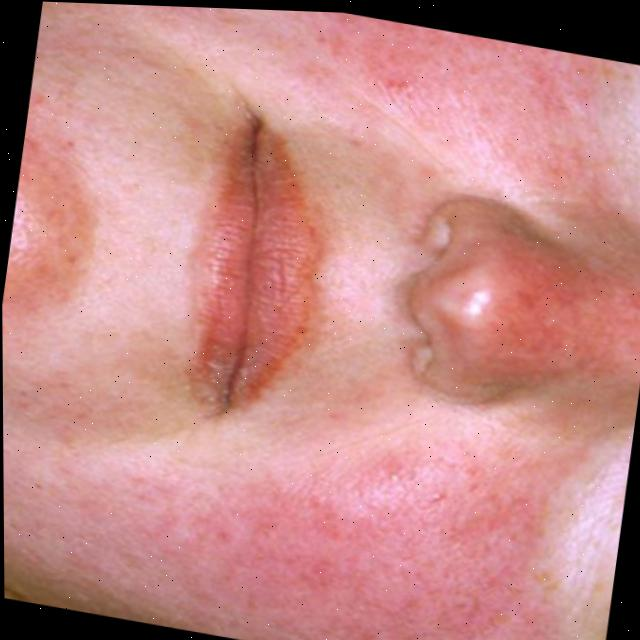Rosacea: (149, 408, 560, 640), (266, 10, 619, 189), (465, 226, 640, 382)
